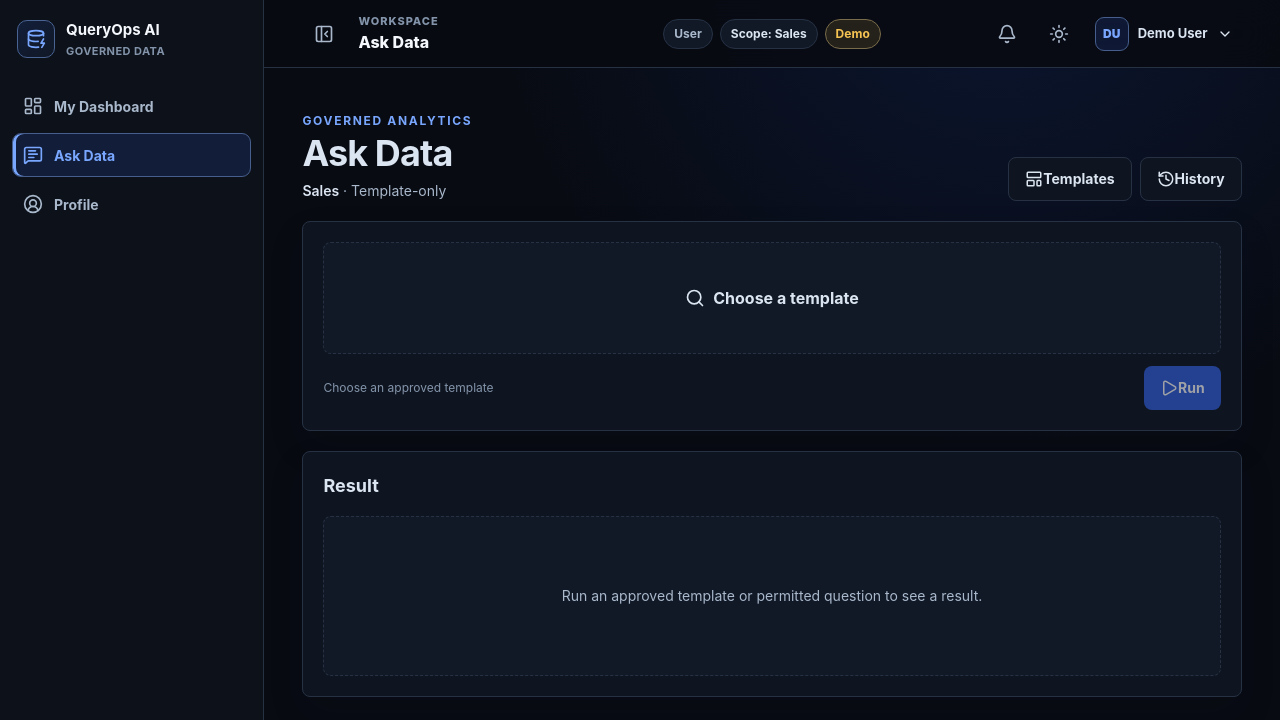
Scenario: Ask Data requester actions › never renders an action CTA or selector data for User
What coordinates should you click on to do the following:
click the button "Templates"
I would click on:
 (1070, 179)
Its box is [1008,157,1132,201].
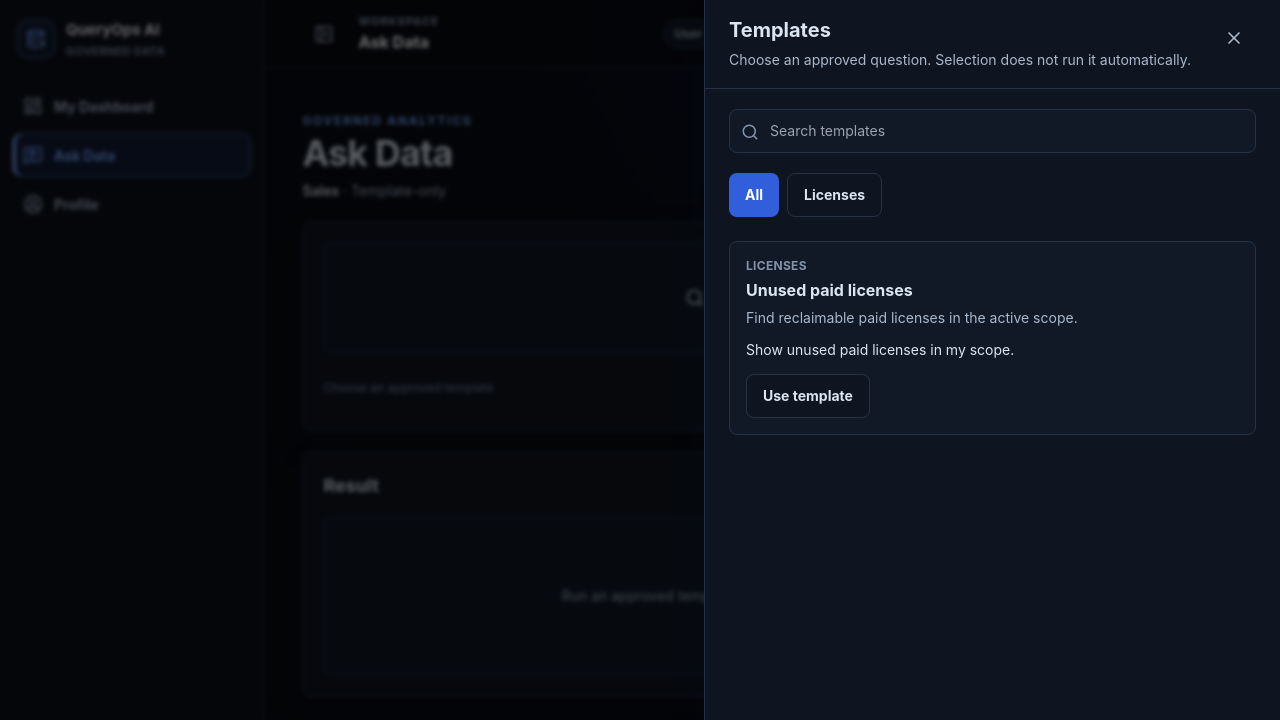
What coordinates should you click on to do the following:
click the button "Use template"
I would click on:
 (808, 396)
Its box is [746,374,870,418].
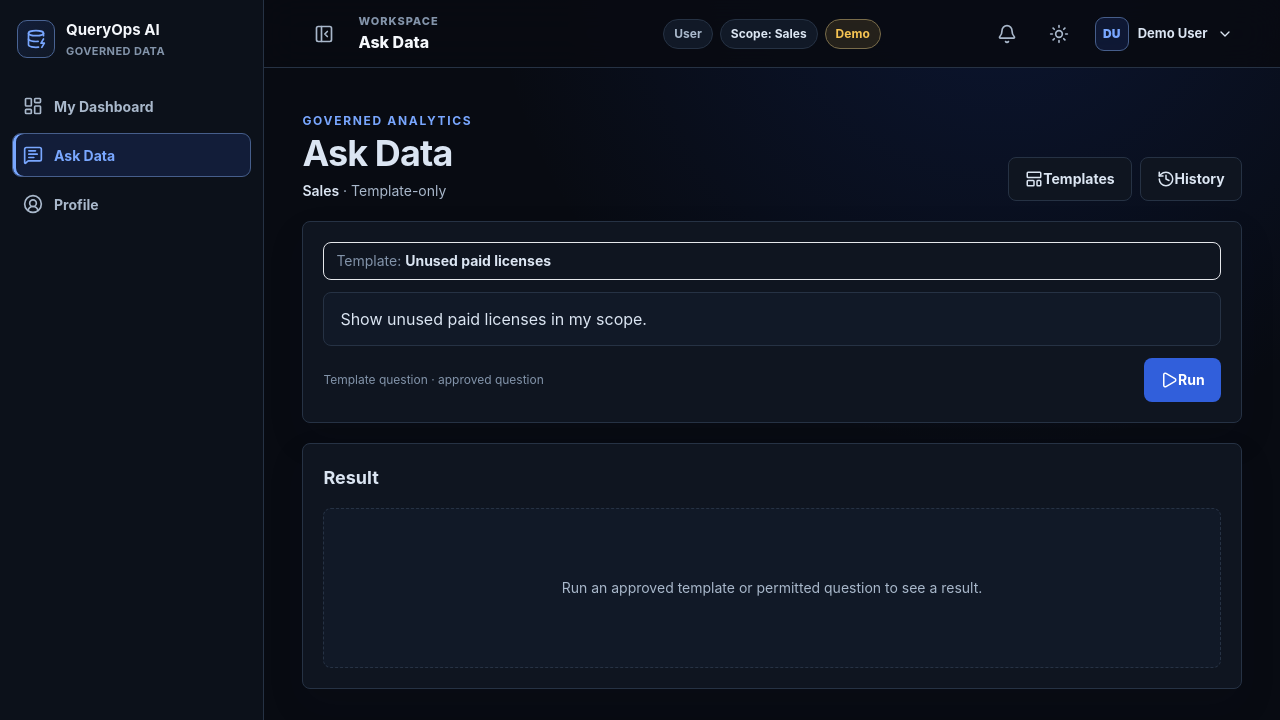
What coordinates should you click on to do the following:
click the button "Run"
I would click on:
 (1182, 380)
Its box is [1144,358,1221,402].
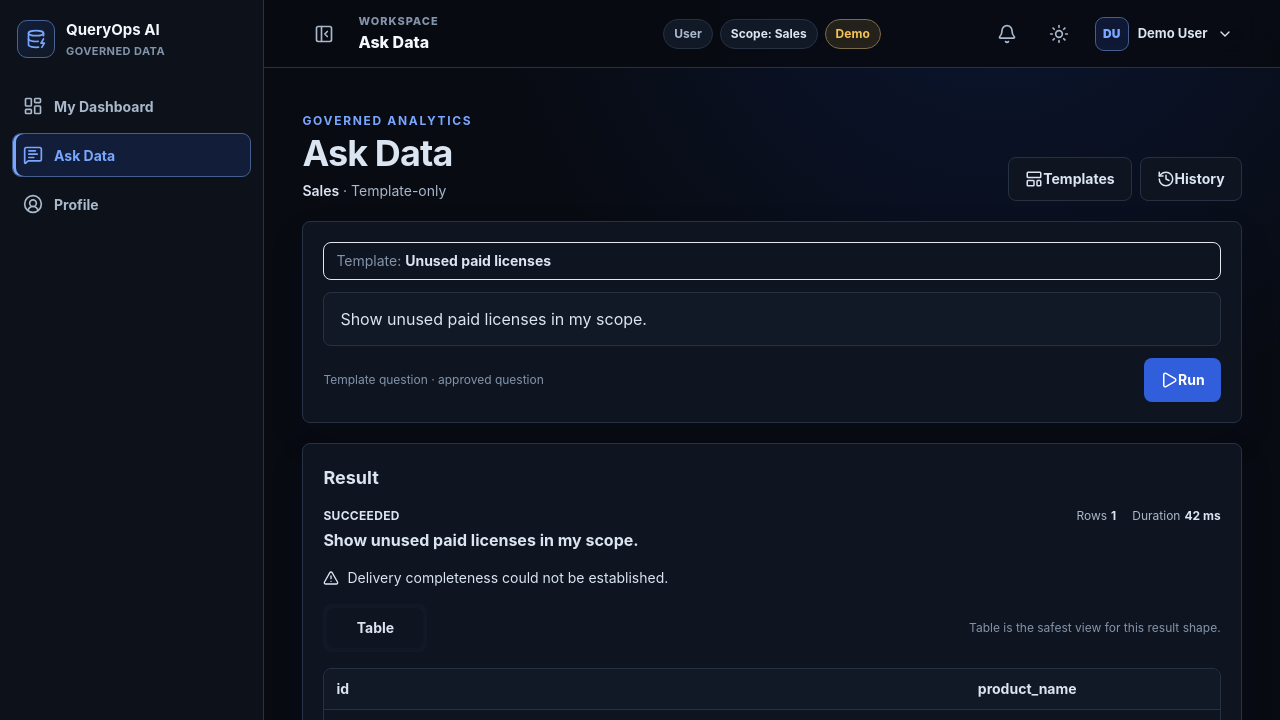
Expected: the text "succeeded" is shown, [323,508,400,523]
